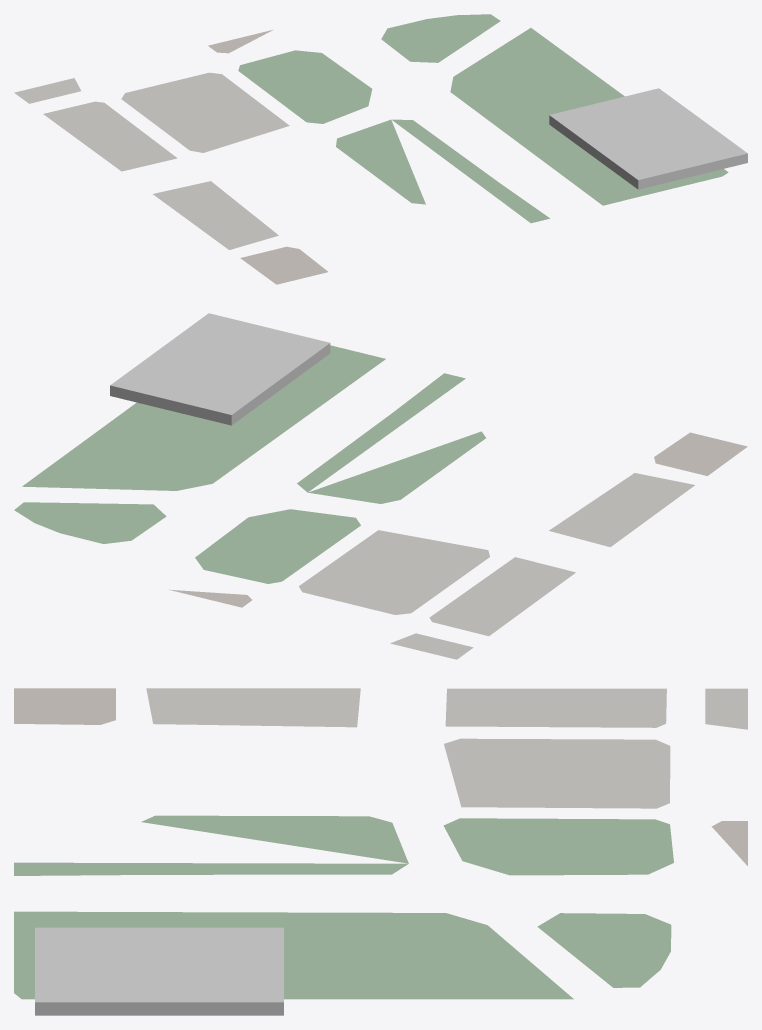
The model's file is 122_68_mid.glb.
3 views of the same model, one above another, from view 1: azimuth 30°, elevation 25°; view 2: azimuth 150°, elevation 25°; view 3: azimuth 270°, elevation 25° (orthographic). The views are drawn at different scales.
Size of the model in its own units: 526 by 10.11 by 500.
